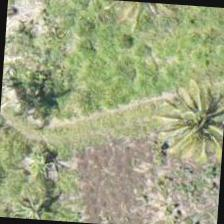Kelapa_Sawit: (154, 73, 223, 169)
